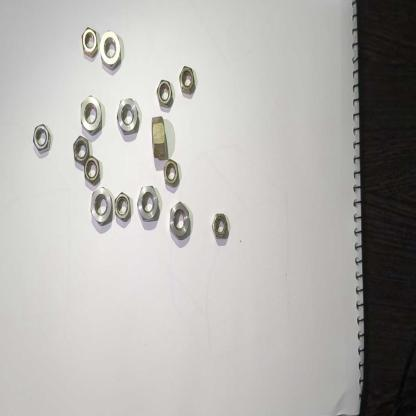NUTS: (87, 186, 114, 229), (167, 200, 193, 244), (98, 30, 124, 72), (135, 182, 161, 224), (116, 96, 140, 139), (78, 92, 101, 136), (148, 114, 169, 160), (81, 153, 104, 188), (112, 189, 133, 225), (32, 121, 52, 158), (79, 25, 99, 62), (156, 73, 174, 113), (69, 132, 90, 166), (179, 62, 197, 100), (211, 210, 231, 243), (162, 157, 181, 188)
